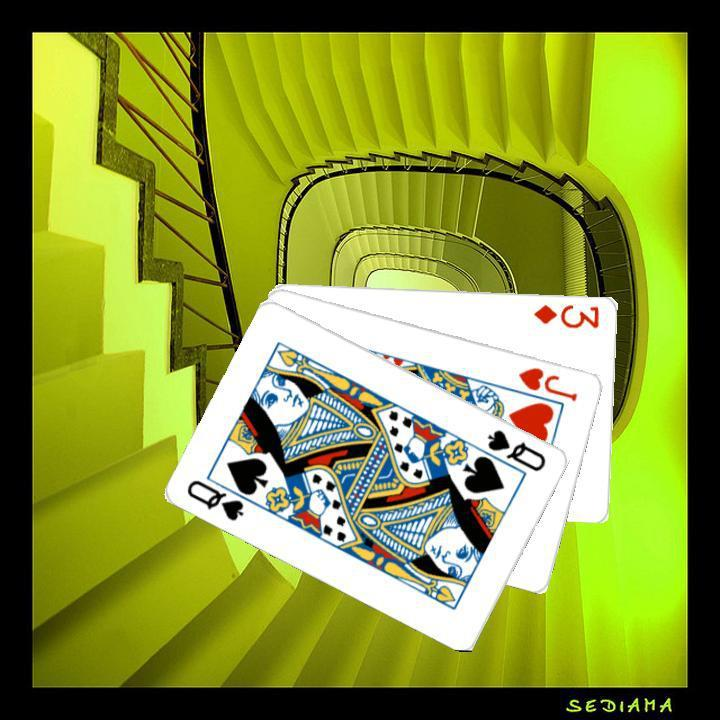3: (529, 299, 602, 330)
J: (514, 362, 580, 403)
Q: (483, 425, 549, 474), (183, 475, 247, 523)
